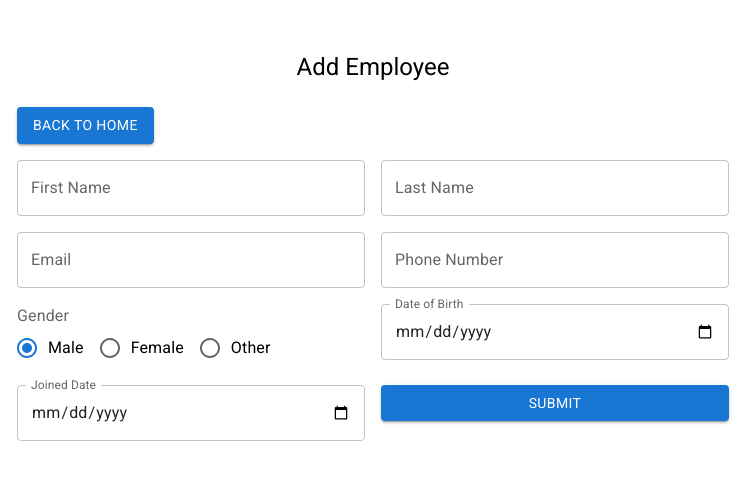
it: AddEmployee Component › validates form and shows errors
This screenshot has width=747, height=495.
Step 1. Click the button "Submit" → (555, 403), box [381,385,729,422]
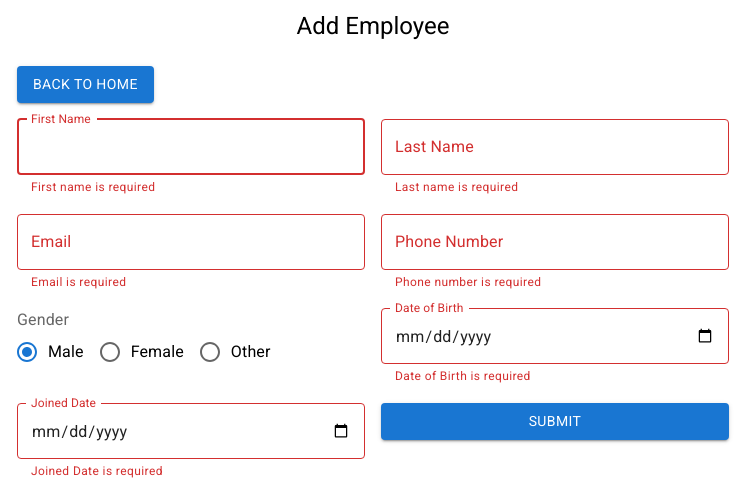
Check: the text "First name is required" is shown, box [31,180,155,194]
Check: the text "Last name is required" is shown, box [395,180,518,194]
Check: the text "Email is required" is shown, box [31,274,126,288]
